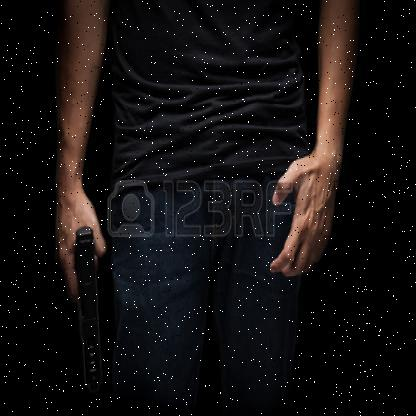pistol: (71, 226, 103, 395)
